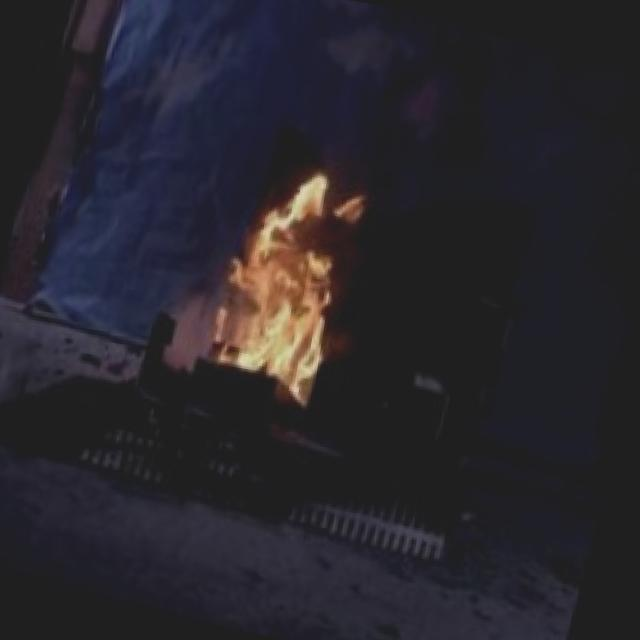fire: (180, 115, 403, 428)
